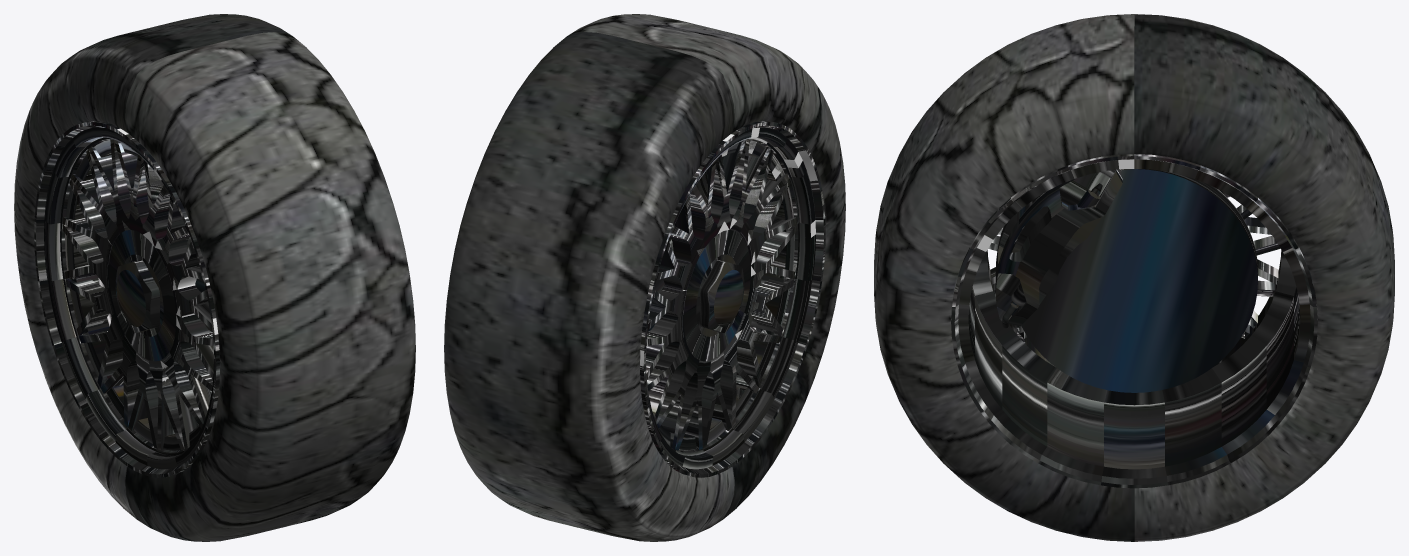
The model's file is llantadt.dae.
The picture shows the model from 3 angles, left to right: view 1: azimuth 30°, elevation 25°; view 2: azimuth 150°, elevation 25°; view 3: azimuth 270°, elevation 25°; orthographic projection.
Parts seen in each view (by area): view 1: llantadt; view 2: llantadt; view 3: llantadt.
Part boxes in pixels (x1,y1,x2,y2): llantadt: (14,14,415,541); llantadt: (444,14,845,541); llantadt: (874,14,1394,541).
Size of the model in its own units: 0.25 by 0.6232 by 0.6232.
